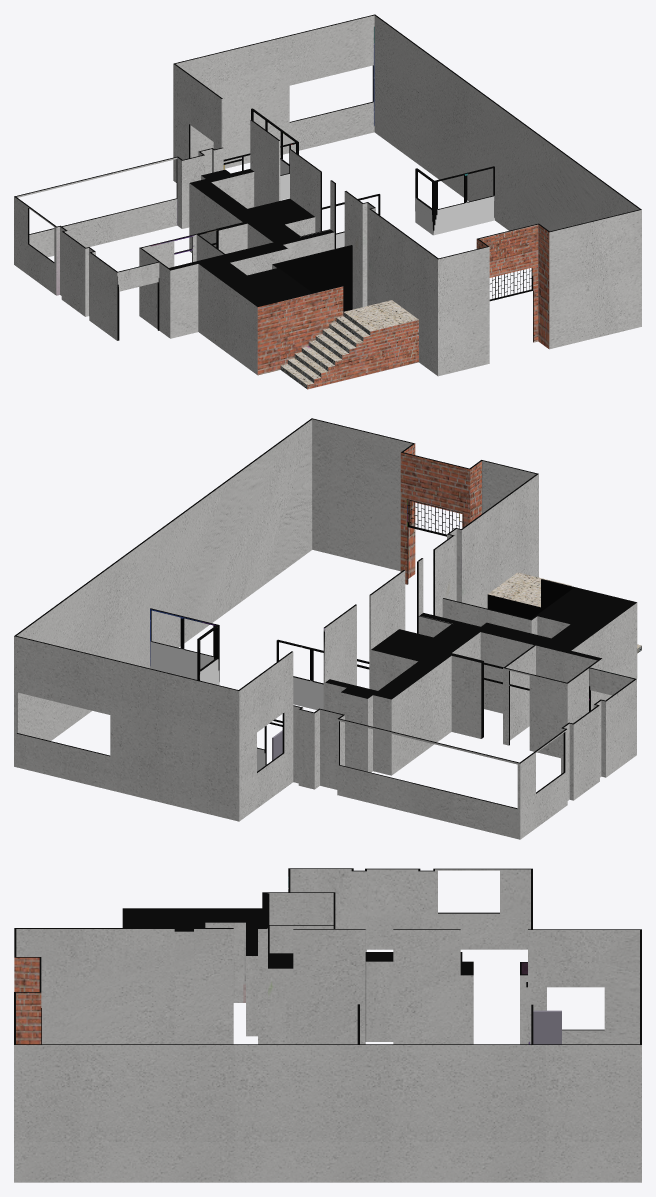
Rendered from labfabex_walls.dae.
The picture shows the model from 3 angles, top to bottom: view 1: azimuth 30°, elevation 25°; view 2: azimuth 150°, elevation 25°; view 3: azimuth 270°, elevation 25°; orthographic projection. The views are drawn at different scales.
Visible parts, largest first — view 1: Labfabex Walls Inventor; view 2: Labfabex Walls Inventor; view 3: Labfabex Walls Inventor.
Boxes of the visible parts, x1=… form: Labfabex Walls Inventor: x1=14, y1=14, x2=641, y2=389; Labfabex Walls Inventor: x1=14, y1=418, x2=641, y2=839; Labfabex Walls Inventor: x1=14, y1=868, x2=641, y2=1182.
Bounding box in the file's own units: 17.52 × 19.84 × 4.8.
1 material, 1 textured.
